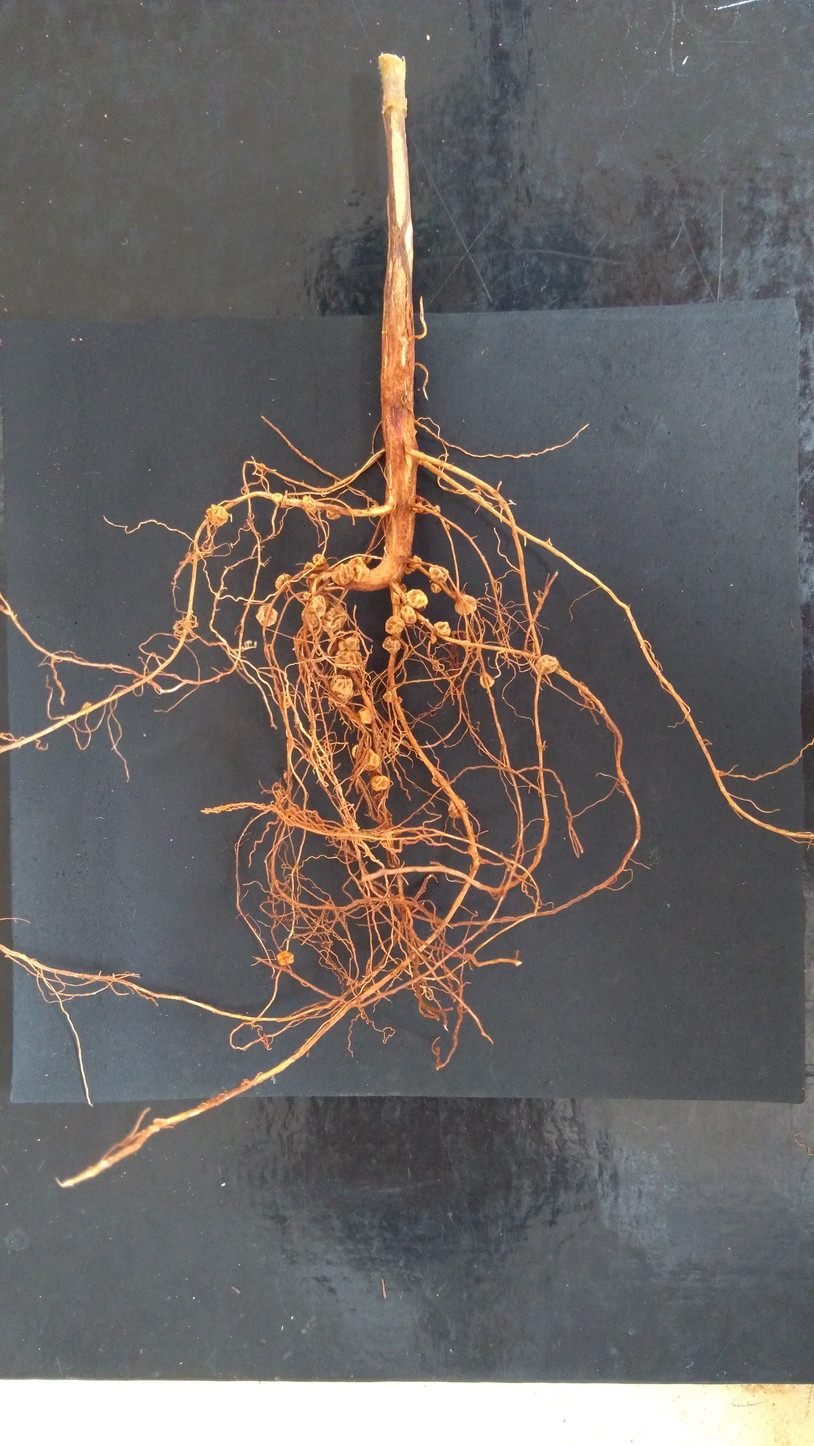nodule: (321, 606, 347, 632), (347, 556, 370, 583), (329, 674, 353, 699), (334, 650, 362, 671), (330, 563, 354, 585), (206, 504, 228, 526), (454, 594, 477, 615), (407, 589, 428, 611), (256, 605, 278, 626), (535, 655, 558, 674), (448, 798, 468, 819), (307, 595, 326, 617), (362, 748, 380, 770), (385, 615, 405, 634), (301, 607, 319, 628), (429, 565, 449, 583), (338, 636, 360, 651), (275, 574, 294, 591), (400, 606, 417, 624), (382, 636, 400, 653), (371, 775, 389, 792), (319, 578, 334, 597), (434, 622, 451, 637), (357, 707, 372, 724), (277, 950, 294, 965), (153, 1118, 174, 1129), (306, 574, 321, 589), (480, 672, 494, 688), (380, 833, 394, 848), (302, 496, 316, 510), (352, 744, 365, 759), (408, 555, 422, 568), (326, 509, 341, 520), (411, 501, 424, 513), (312, 554, 326, 565), (282, 693, 292, 708), (395, 583, 407, 594), (431, 582, 442, 593), (272, 493, 283, 504), (391, 592, 400, 605), (283, 771, 292, 784), (383, 691, 393, 702), (431, 776, 441, 787), (361, 553, 372, 563), (370, 505, 378, 517), (81, 702, 91, 711), (256, 463, 266, 472), (321, 940, 333, 947), (281, 495, 288, 507), (241, 1078, 250, 1087), (405, 566, 415, 574), (254, 1072, 264, 1080), (432, 505, 440, 514), (304, 562, 314, 569), (303, 592, 311, 600), (431, 635, 437, 644), (312, 508, 321, 514), (397, 696, 403, 704), (321, 755, 329, 760), (486, 502, 492, 507), (446, 524, 450, 530)
